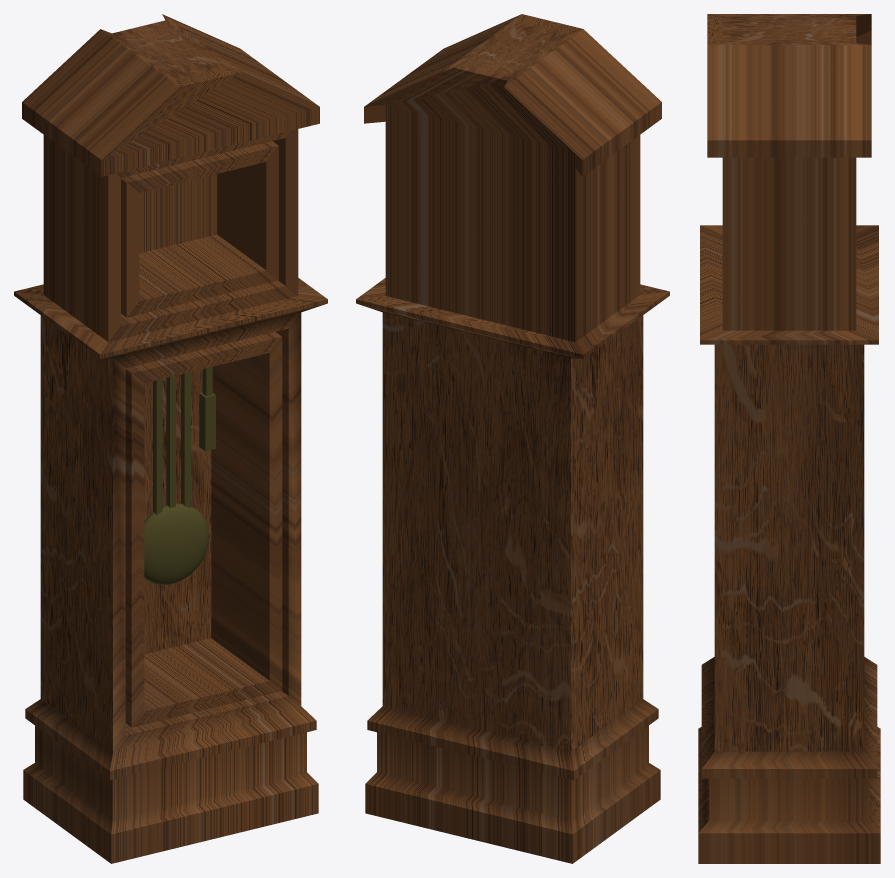
The model's file is clock 1.obj.
The picture shows the model from 3 angles, left to right: view 1: azimuth 30°, elevation 25°; view 2: azimuth 150°, elevation 25°; view 3: azimuth 270°, elevation 25°; orthographic projection. The views are drawn at different scales.
Visible parts, largest first — view 1: clock, pSphere1, pCube1, pCube2, pCube3, string2; view 2: clock; view 3: clock.
Boxes of the visible parts, left/top/right/bottom form: clock: left=14, top=14, right=327, bottom=863; pSphere1: left=144, top=503, right=208, bottom=584; pCube1: left=153, top=379, right=162, bottom=515; pCube2: left=181, top=372, right=190, bottom=508; pCube3: left=166, top=376, right=175, bottom=508; string2: left=199, top=367, right=215, bottom=451; clock: left=356, top=14, right=669, bottom=863; clock: left=698, top=14, right=880, bottom=863.
Size of the model in its own units: 1.81 by 5.76 by 1.22.
